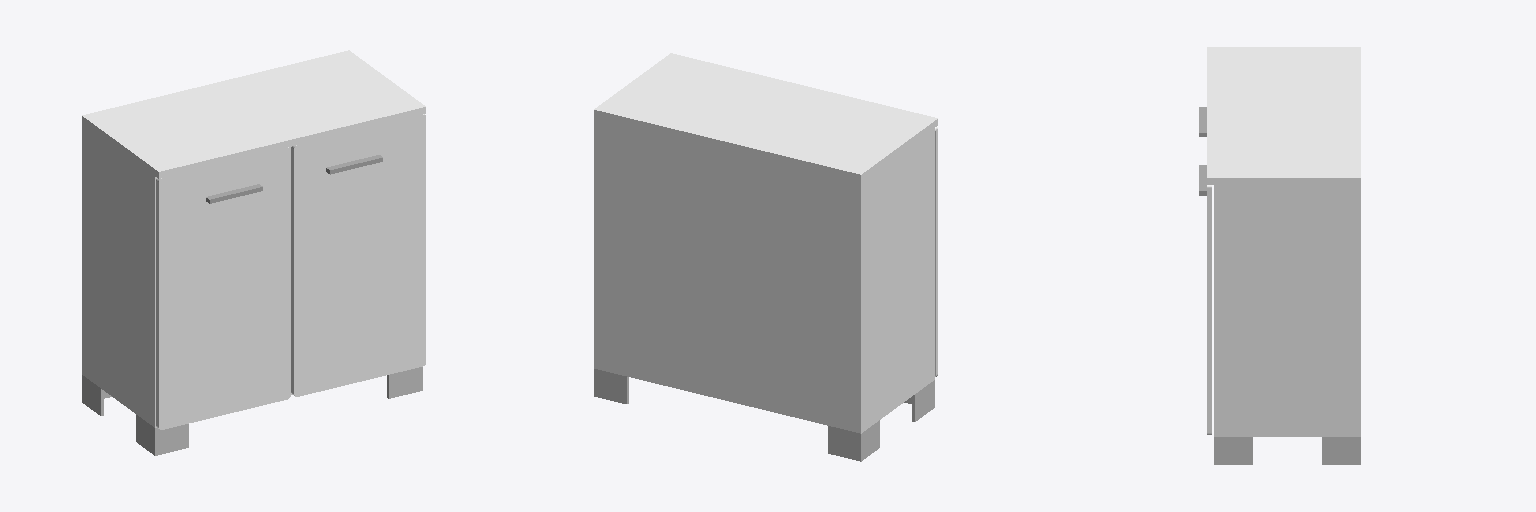
The model's file is mobilettoBlu.obj.
3 views of the same model, side by side, from view 1: azimuth 30°, elevation 25°; view 2: azimuth 150°, elevation 25°; view 3: azimuth 270°, elevation 25° (orthographic).
Parts seen in each view (by area): view 1: Rectangle20_9, Rectangle19_10, Box33_7, Box31_8, Line20_6, Line17_3, Line18_4; view 2: Box31_8, Box33_7, Line18_4, Line16_2, Rectangle20_9, Line20_6; view 3: Box31_8, Box33_7, Rectangle19_10, Line16_2, Line17_3.
Boxes of the visible parts, x1=… form: Rectangle20_9: x1=156, y1=147, x2=290, y2=429; Rectangle19_10: x1=291, y1=114, x2=425, y2=396; Box33_7: x1=82, y1=50, x2=425, y2=178; Box31_8: x1=82, y1=123, x2=291, y2=427; Line20_6: x1=136, y1=415, x2=188, y2=455; Line17_3: x1=387, y1=367, x2=422, y2=398; Line18_4: x1=82, y1=375, x2=111, y2=415; Box31_8: x1=594, y1=117, x2=934, y2=433; Box33_7: x1=594, y1=53, x2=937, y2=181; Line18_4: x1=828, y1=420, x2=879, y2=461; Line16_2: x1=594, y1=369, x2=628, y2=403; Rectangle20_9: x1=935, y1=126, x2=937, y2=376; Line20_6: x1=904, y1=380, x2=934, y2=421; Box31_8: x1=1214, y1=185, x2=1360, y2=436; Box33_7: x1=1207, y1=47, x2=1360, y2=184; Rectangle19_10: x1=1207, y1=185, x2=1211, y2=434; Line16_2: x1=1322, y1=437, x2=1360, y2=464; Line17_3: x1=1214, y1=437, x2=1252, y2=464.
Bounding box in the file's own units: 80 × 82 × 42.